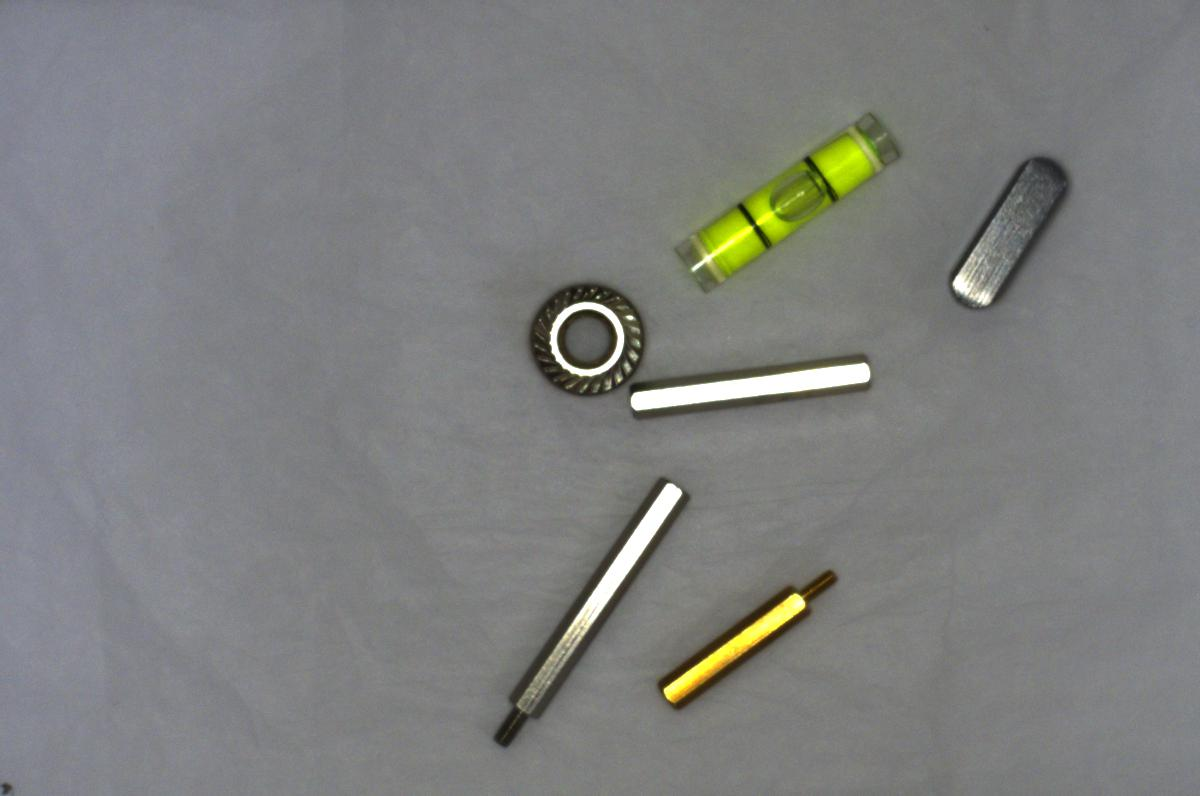Double hexagonal column: (624, 346, 876, 426)
Flange nut: (512, 273, 644, 400)
Hexagon pillar: (650, 551, 851, 718)
Hexagonal steel column: (474, 460, 692, 760)
Horizontal bubble: (669, 105, 897, 296)
Keybar: (942, 156, 1085, 310)
